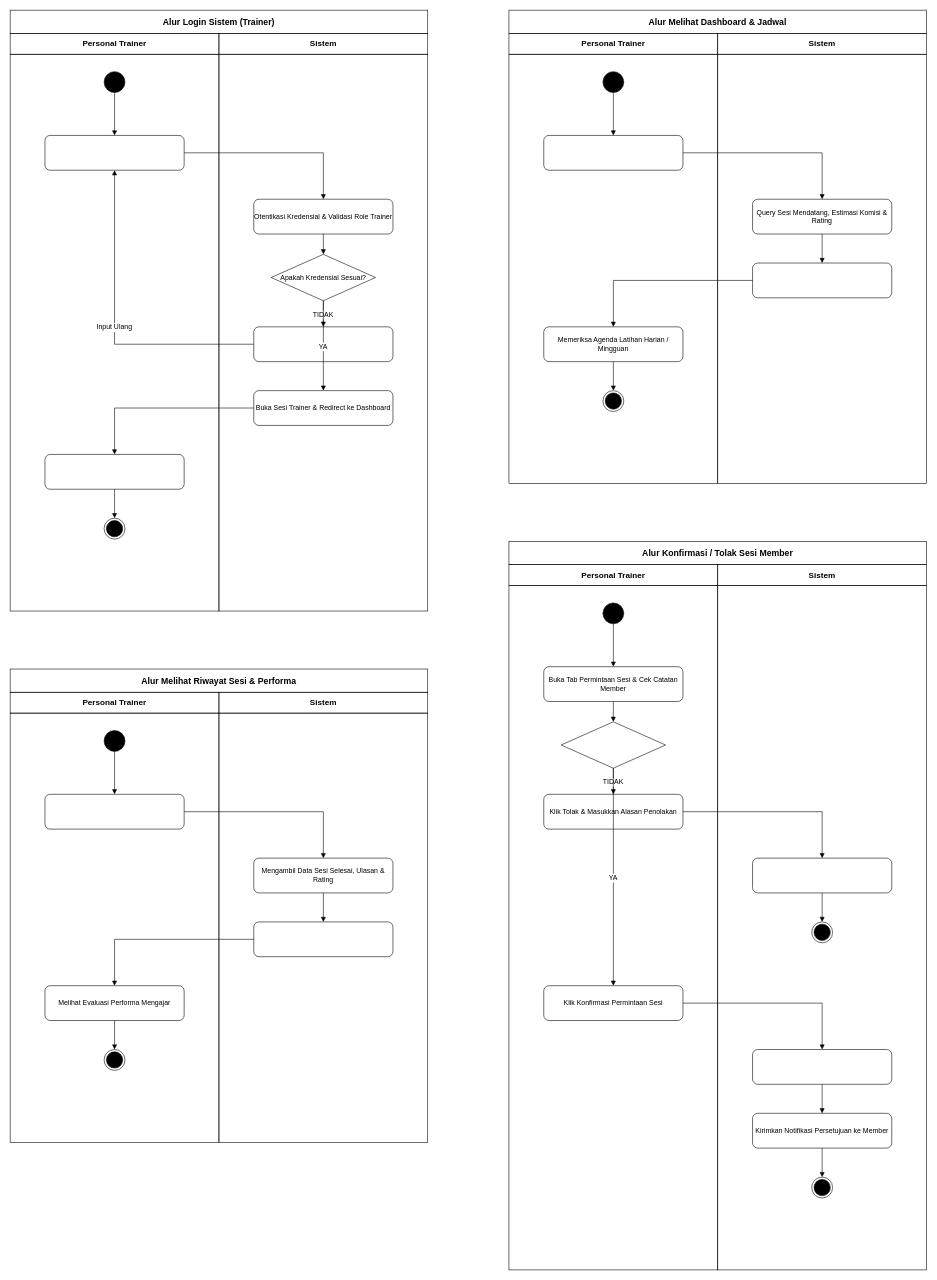
This 937x1280 diagram has some shape labels left out. The shapes that lost their labels are listed below. From the top down, each one's box as (x1, y1, x2, y2) in pixels, then its label:
(44, 135, 184, 170): Input Email & Password Akun Trainer
(543, 135, 683, 170): Membuka Halaman Kalender Jadwal Latihan
(752, 262, 892, 298): Menyajikan Kalender Sesi & Permintaan Masuk
(253, 326, 393, 362): Tampilkan Pesan: 'Akses Ditolak / Salah Kredensial'
(44, 454, 184, 489): Masuk ke Trainer Dashboard
(561, 721, 666, 768): Apakah Bersedia Mengajar pada Slot Ini?
(44, 794, 184, 829): Membuka Menu Statistik & Riwayat Mengajar
(752, 858, 892, 893): Ubah Status CANCELLED & Kembalikan Kuota (+1)
(253, 921, 393, 957): Merender Total Sesi & Rincian Komisi Bulanan
(752, 1049, 892, 1084): Ubah Status CONFIRMED & Kunci Slot Jadwal
